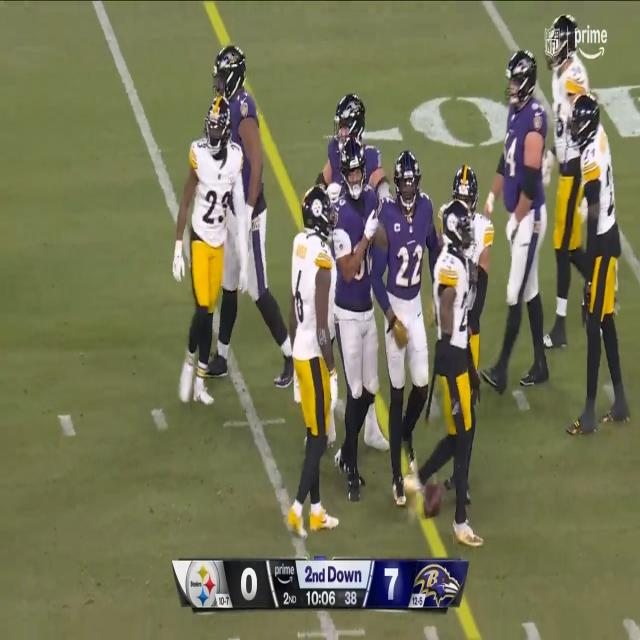Player: (214, 39, 292, 386), (570, 84, 632, 451), (428, 198, 491, 553), (170, 94, 238, 405), (378, 148, 434, 516), (286, 176, 340, 541), (337, 134, 385, 512), (500, 46, 551, 392), (542, 10, 584, 370), (457, 154, 492, 374), (310, 82, 381, 186)
